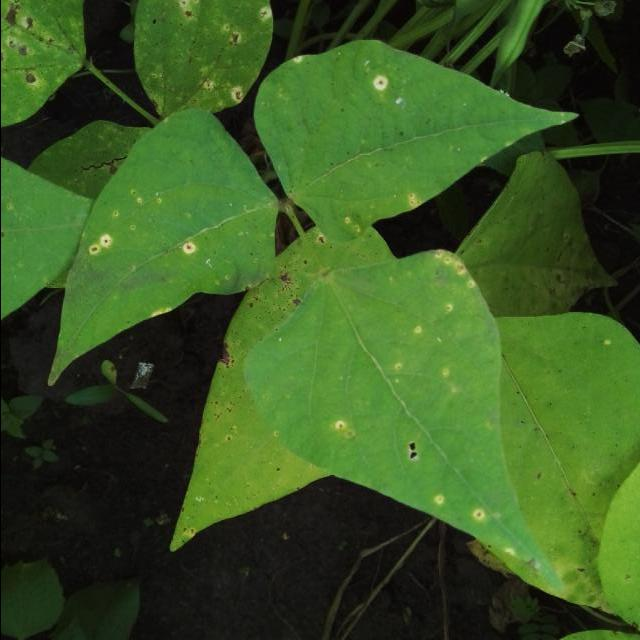hawar: (319, 246, 484, 454), (182, 0, 280, 109), (74, 182, 134, 268), (364, 34, 402, 112), (387, 176, 432, 232), (170, 224, 210, 266)
